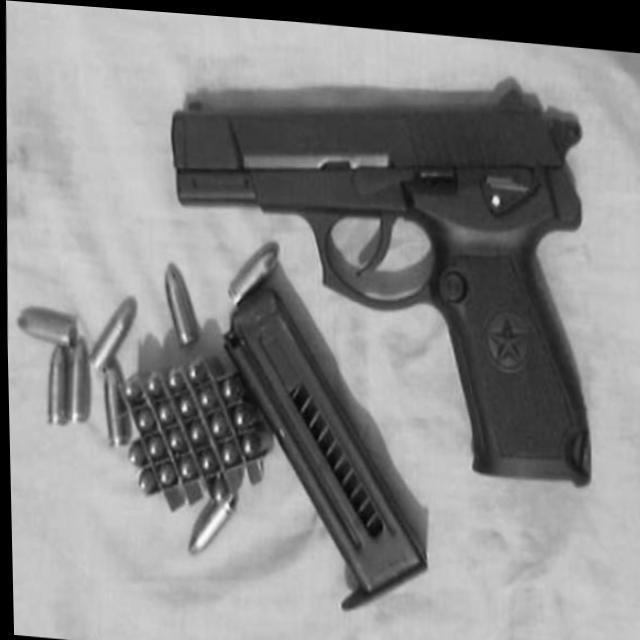weapon: (162, 41, 596, 478)
